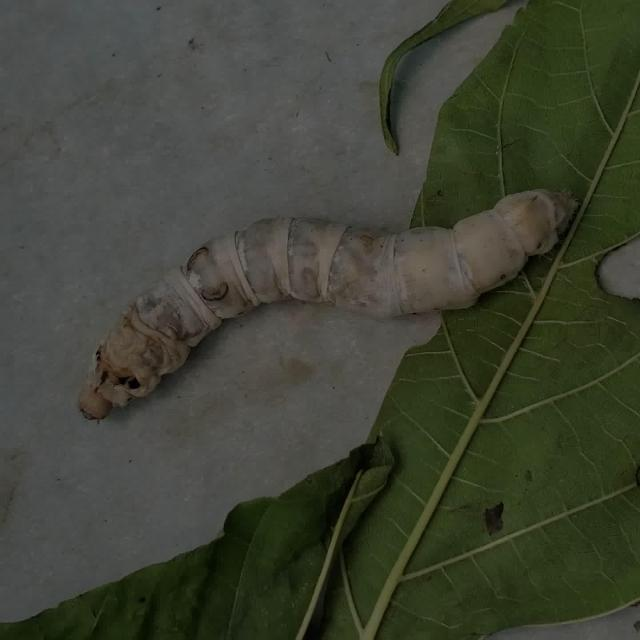Grasserie: (69, 176, 580, 436)
